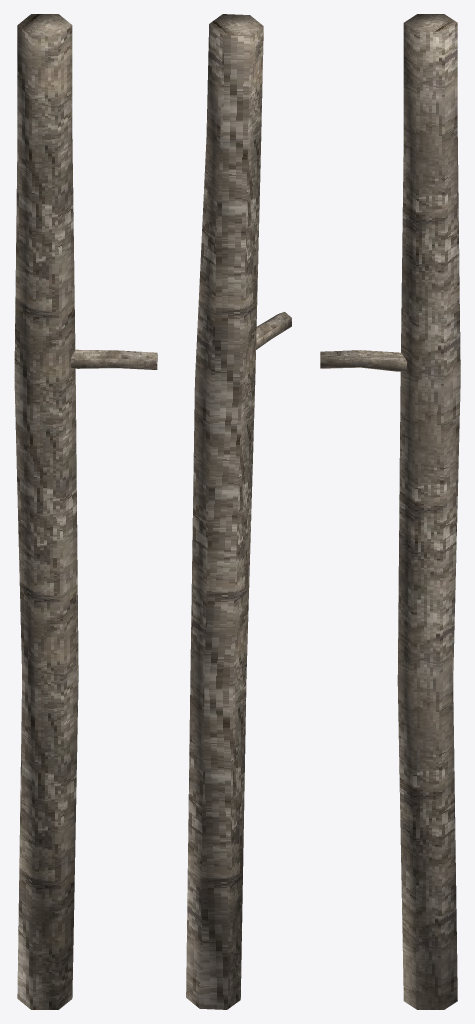
The model's file is opora.glb.
3 views of the same model, side by side, from view 1: azimuth 90°, elevation 25°; view 2: azimuth 150°, elevation 25°; view 3: azimuth 270°, elevation 25° (orthographic).
Visible parts, largest first — view 1: B_01.001; view 2: B_01.001; view 3: B_01.001.
Part boxes in pixels (box(x1,y1,x2,y2)): B_01.001: box(14, 14, 157, 1009); B_01.001: box(186, 14, 291, 1009); B_01.001: box(320, 14, 460, 1009).
Bounding box in the file's own units: 0.2892 × 4.23 × 0.5558.
1 material, 1 textured.
